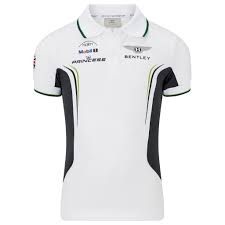C_polo shirt: (29, 9, 190, 217)
